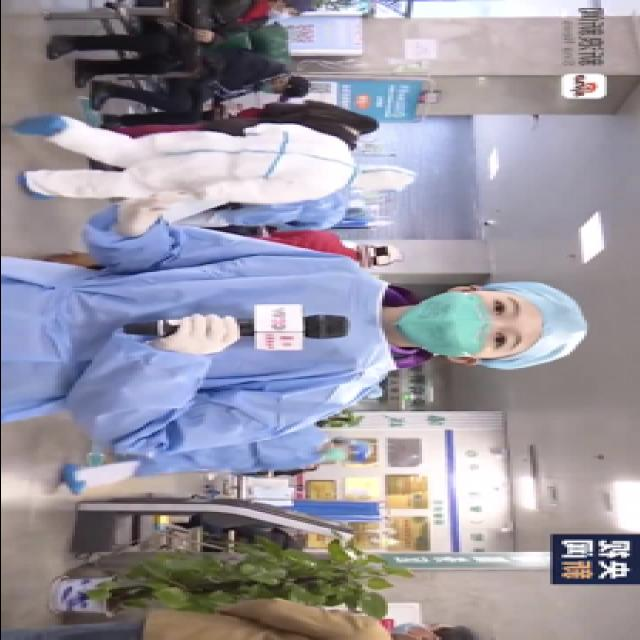mask: (398, 289, 529, 362), (390, 622, 438, 637), (255, 78, 288, 96), (324, 444, 356, 462), (264, 2, 296, 20)
